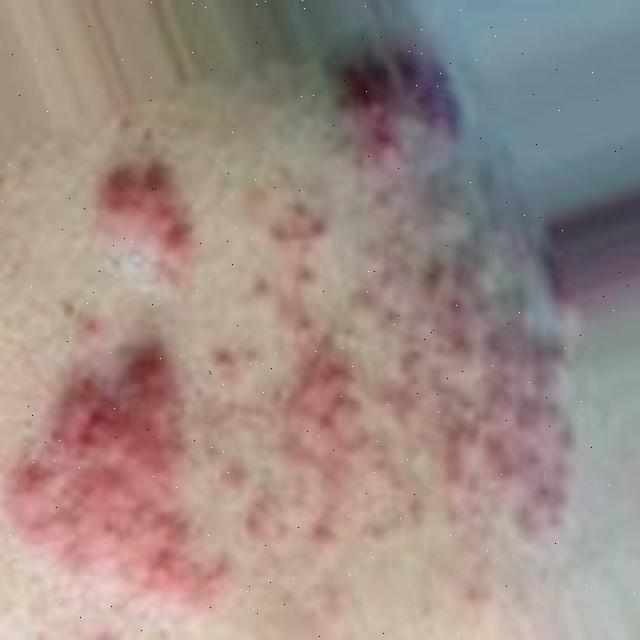Shingles: (0, 52, 580, 614)
